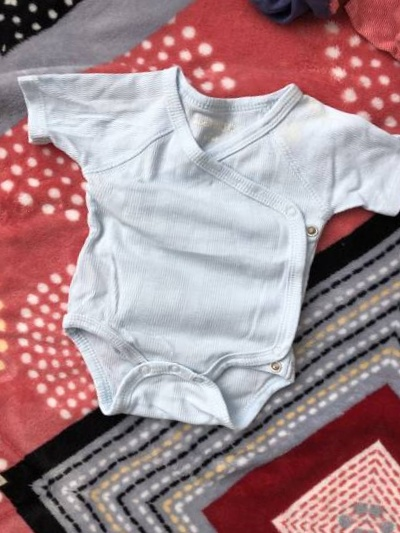Body: (0, 33, 400, 457), (381, 94, 400, 519)
